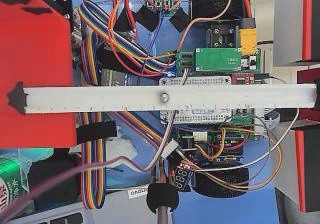ironball: (159, 90, 168, 102)
